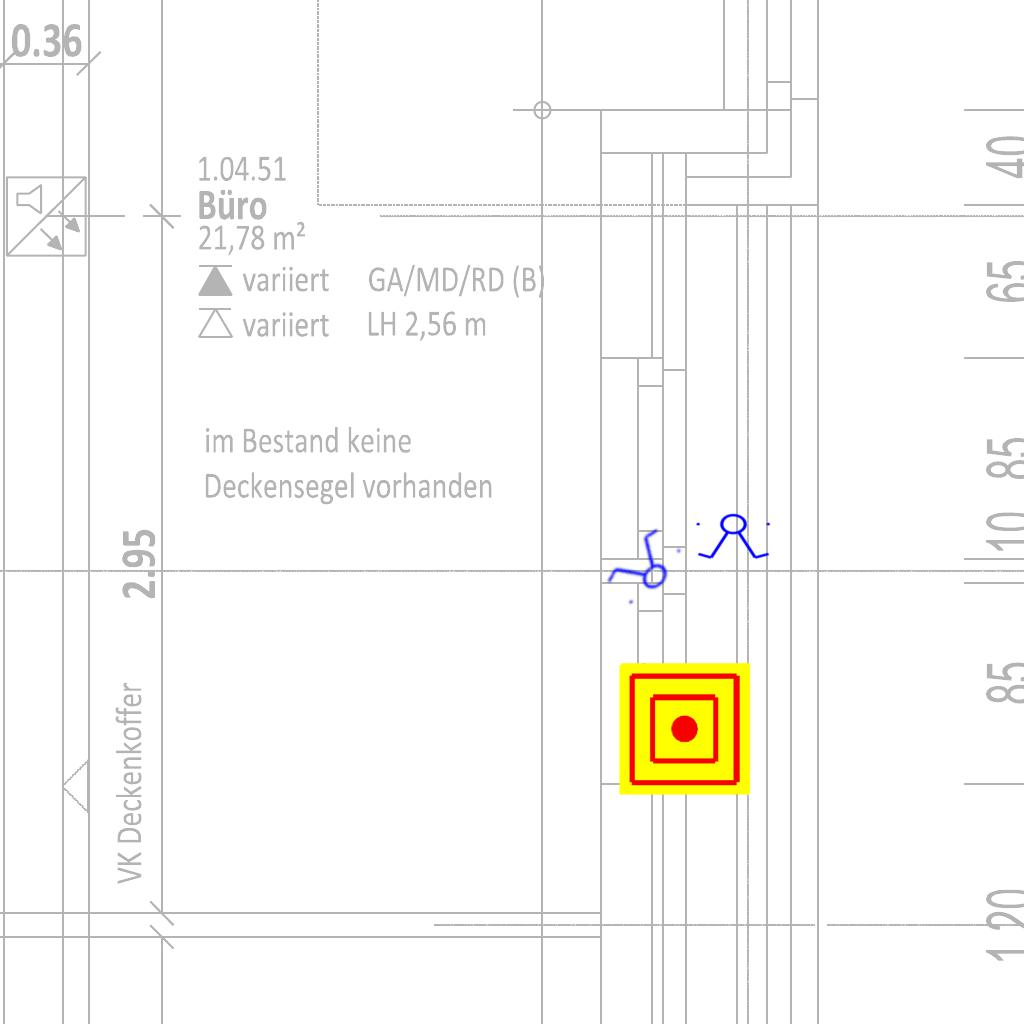NAM-Nichtautomatischer_Melder: (619, 663, 751, 795)
Serienschalter: (598, 520, 692, 616), (692, 513, 776, 561)
